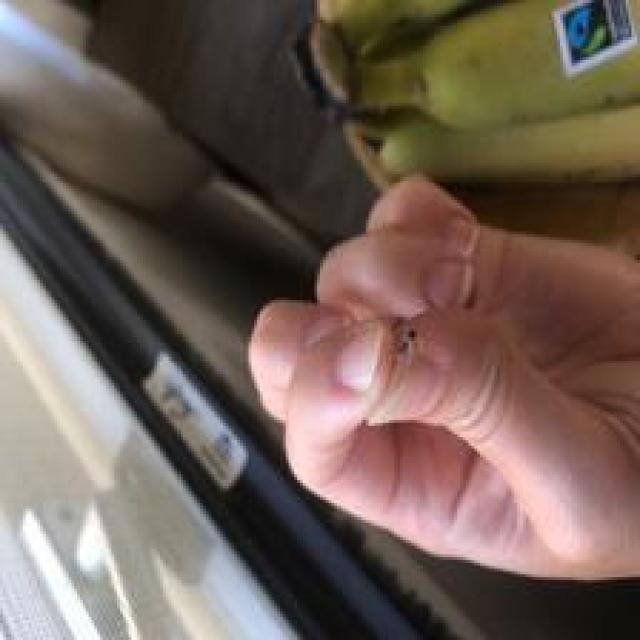Culex: (305, 0, 640, 194)
